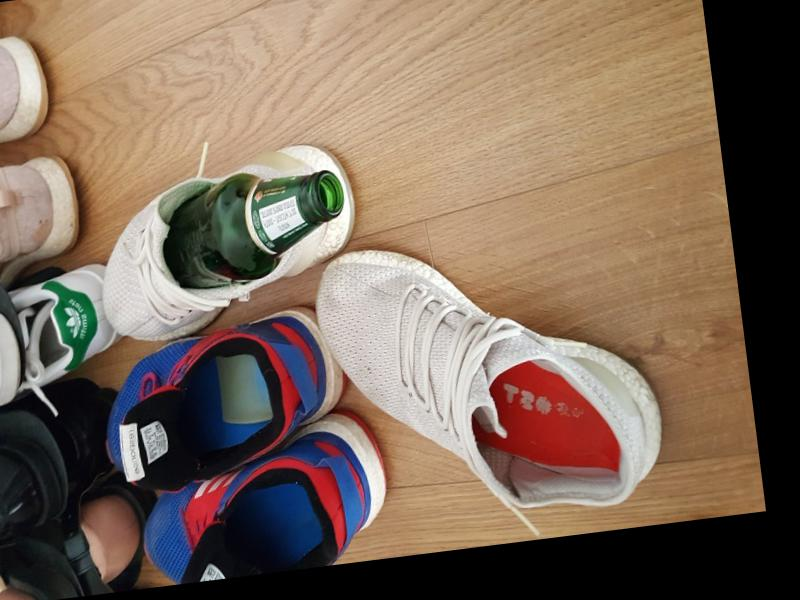Beer: (157, 161, 354, 295)
